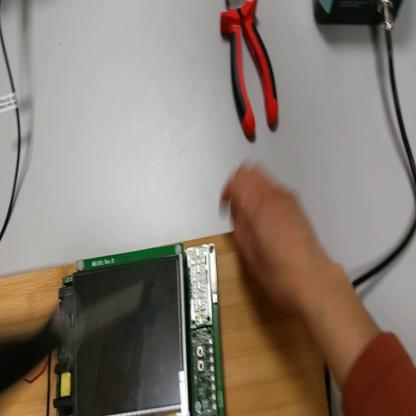hand: (223, 157, 323, 320)
low voltage board: (48, 243, 228, 416)
pliers: (221, 2, 281, 145)
screwdriver-: (2, 279, 147, 395)
welder station: (313, 2, 403, 34)
working area: (1, 220, 332, 416)
